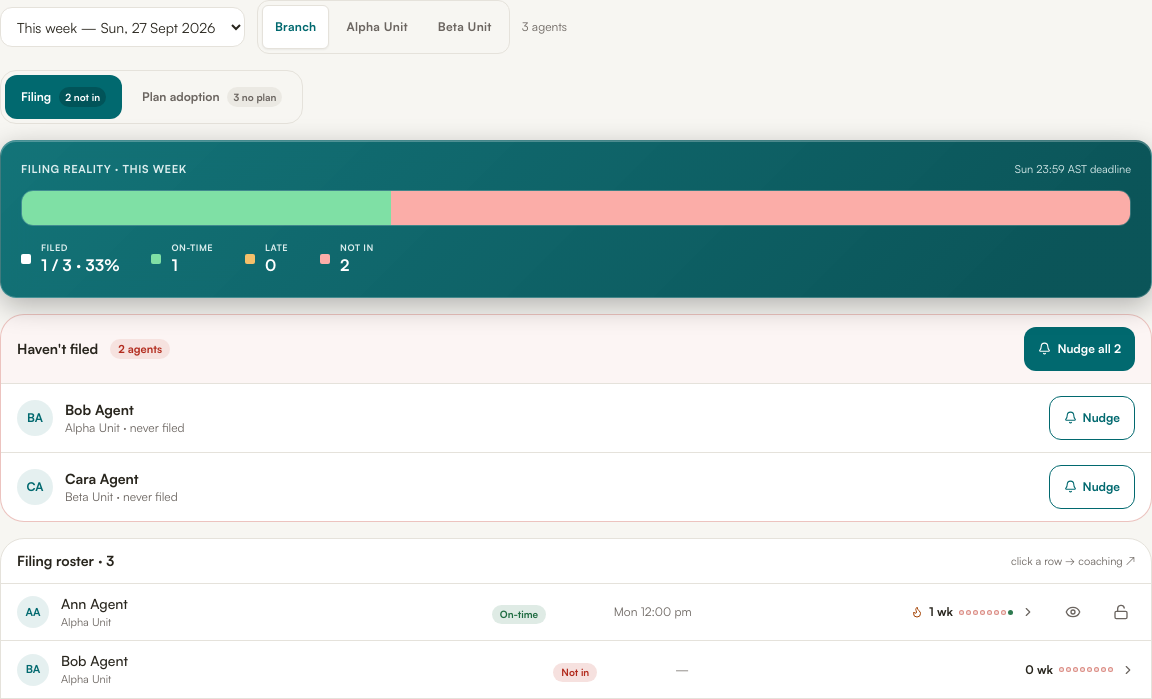
CompliancePanel — S4 explicit ScopeSwitch › nudge-all confirm copy names the selected unit as scope
Expected: the element with test id "compliance-reality-bar" is shown, [0,140,1151,298]
Step 1. Click the button with test id "compliance-scope-unit-u1" → (377, 27), box [333,5,421,49]
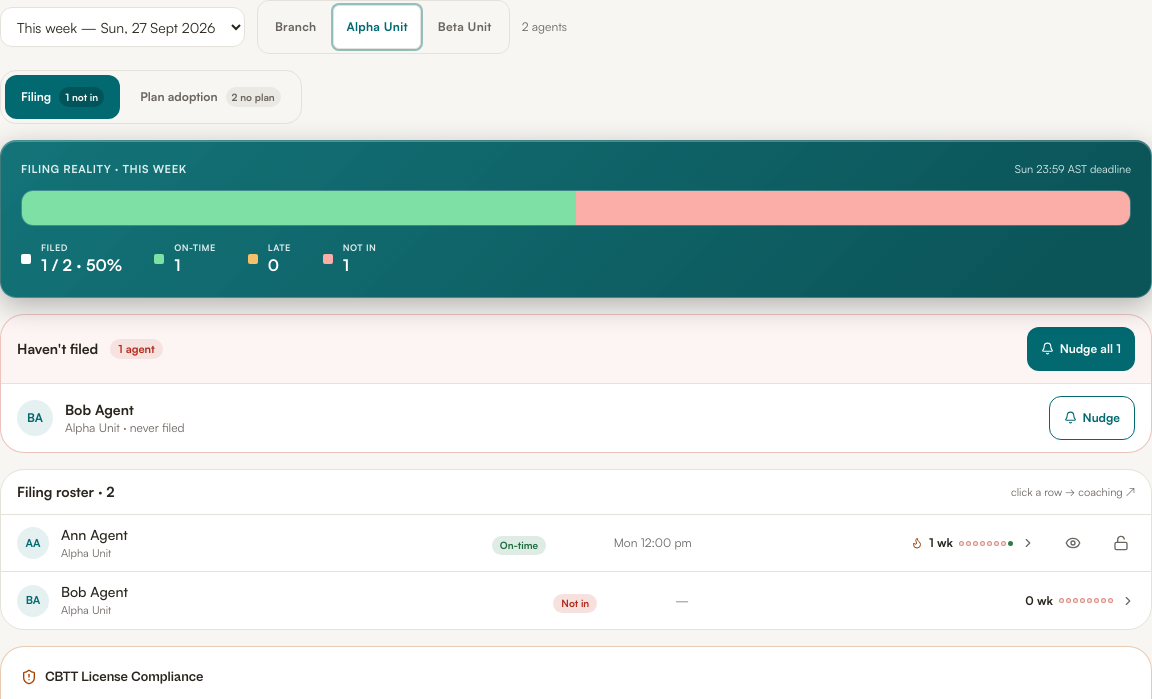
Expected: the button with test id "compliance-nudge-all" reads "Nudge all 1"
Step 2. Click the button with test id "compliance-nudge-all" → (1081, 349), box [1027,327,1135,371]
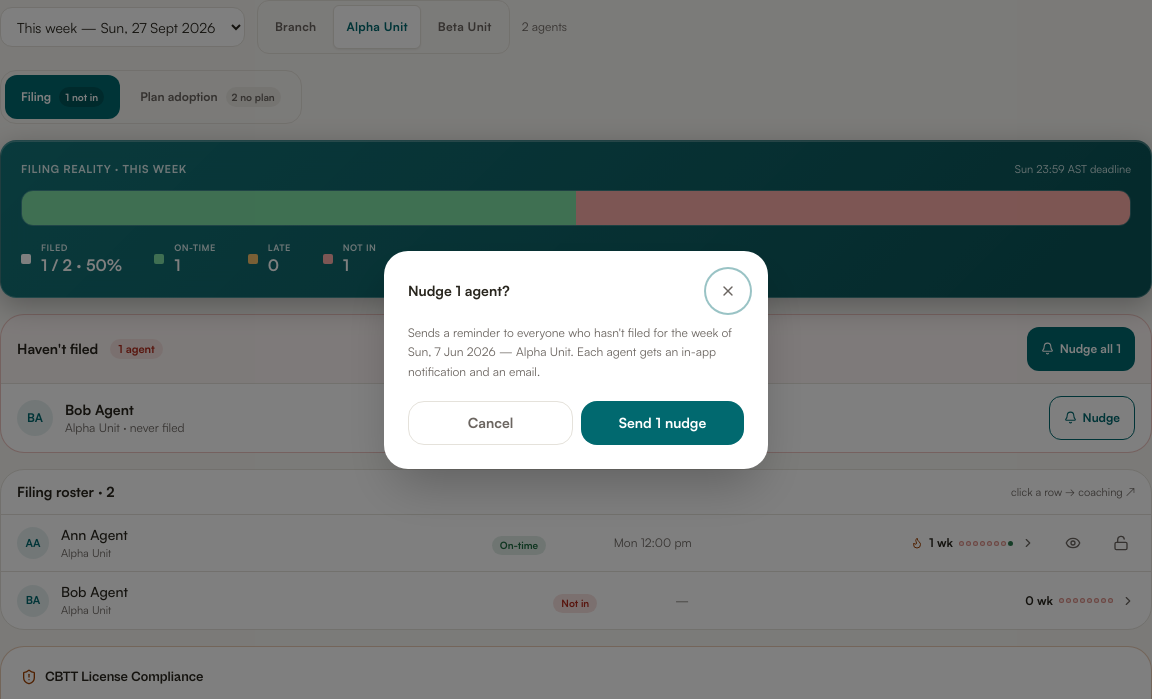
Expected: the dialog shows "Alpha Unit", [408,325,732,379]
